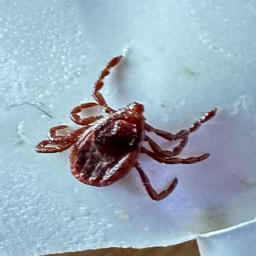Rhipicephalus sanguineus: (36, 54, 217, 203)
